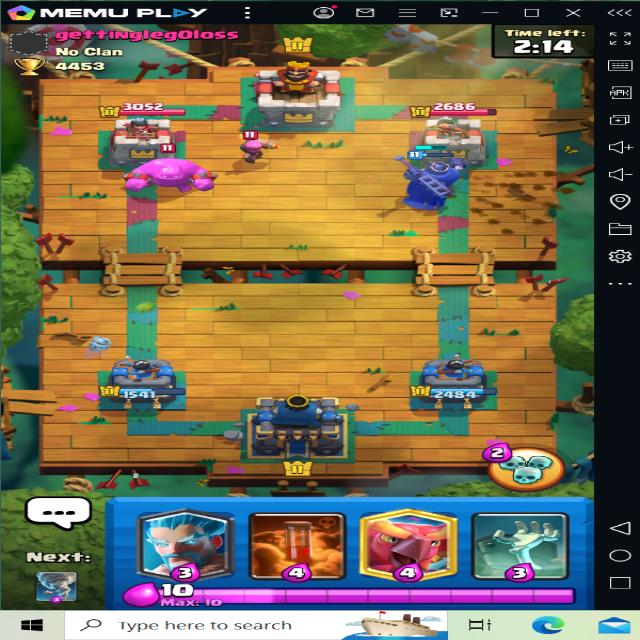electro-golem: (116, 140, 220, 200)
firecracker: (233, 129, 293, 172)
